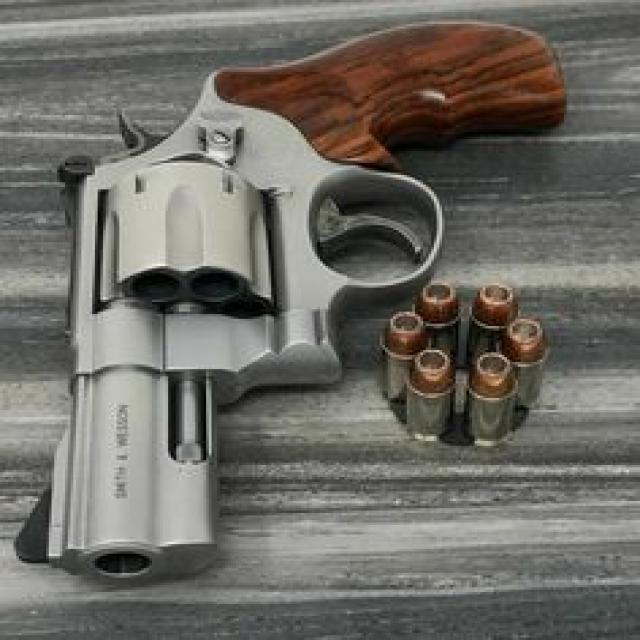revolver: (0, 13, 640, 580)
